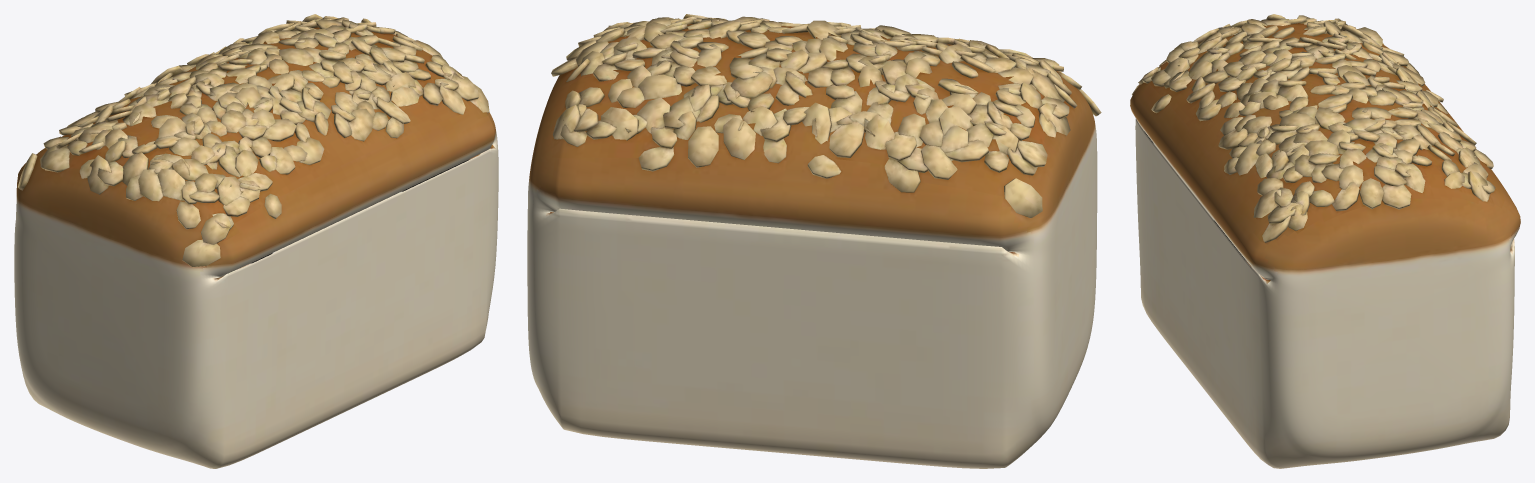
File: loaf--oat-flake.glb
3 views of the same model, side by side, from view 1: azimuth 30°, elevation 25°; view 2: azimuth 150°, elevation 25°; view 3: azimuth 270°, elevation 25° (orthographic). The views are drawn at different scales.
Parts seen in each view (by area): view 1: loaf_oat-flake; view 2: loaf_oat-flake; view 3: loaf_oat-flake.
Boxes of the visible parts, x1,y1,x2,y2 form: loaf_oat-flake: (14,14,498,468); loaf_oat-flake: (527,14,1101,468); loaf_oat-flake: (1130,14,1520,468).
Bounding box in the file's own units: 1.09 × 0.735 × 0.8491.
Materials: 1 (1 with a texture image).
